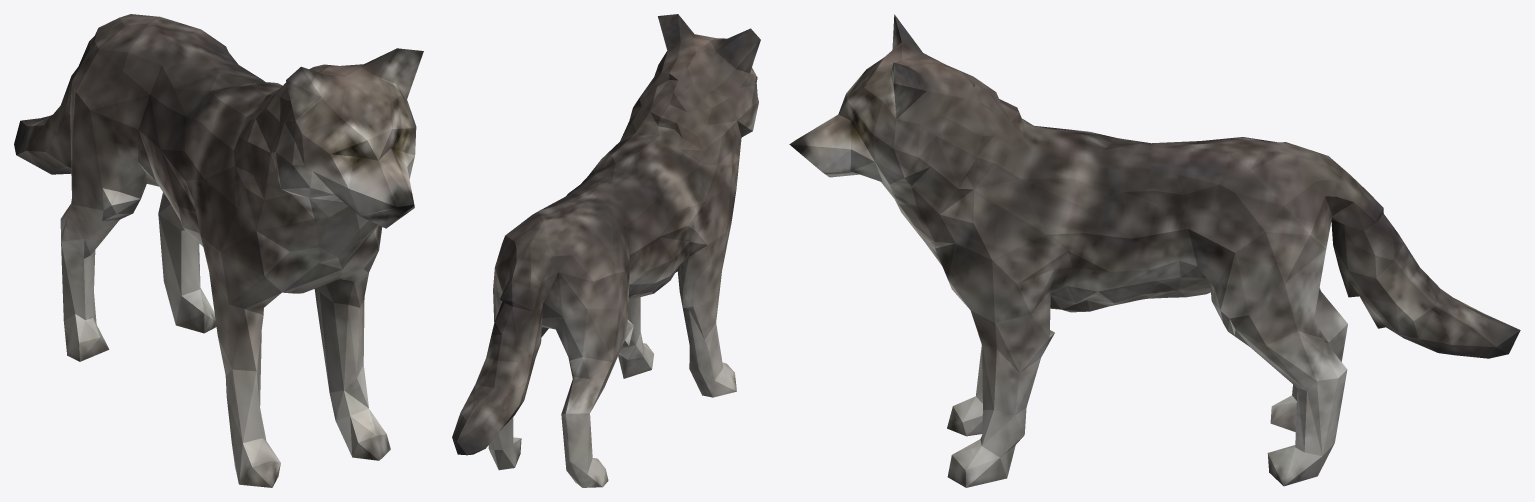
Rendered from r32_tier_wolf.glb.
The picture shows the model from 3 angles, left to right: view 1: azimuth 30°, elevation 25°; view 2: azimuth 150°, elevation 25°; view 3: azimuth 270°, elevation 25°; orthographic projection. The views are drawn at different scales.
Visible parts, largest first — view 1: wolf; view 2: wolf; view 3: wolf.
Part boxes in pixels (x1=…): wolf: x1=14, y1=14, x2=423, y2=487; wolf: x1=452, y1=14, x2=760, y2=487; wolf: x1=789, y1=14, x2=1520, y2=487.
Bounding box in the file's own units: 0.3755 × 1 × 1.6.
1 material, 1 textured.
